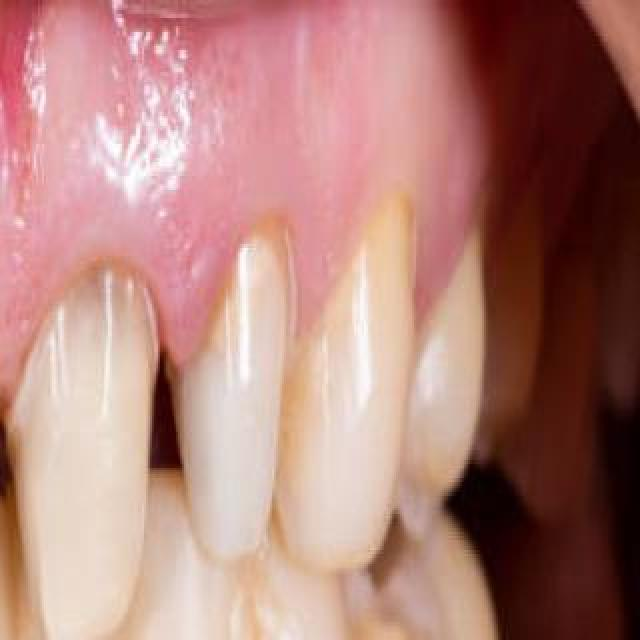missing: (486, 546, 570, 640)
spacing: (132, 300, 194, 620), (274, 316, 314, 564), (0, 368, 34, 628)
